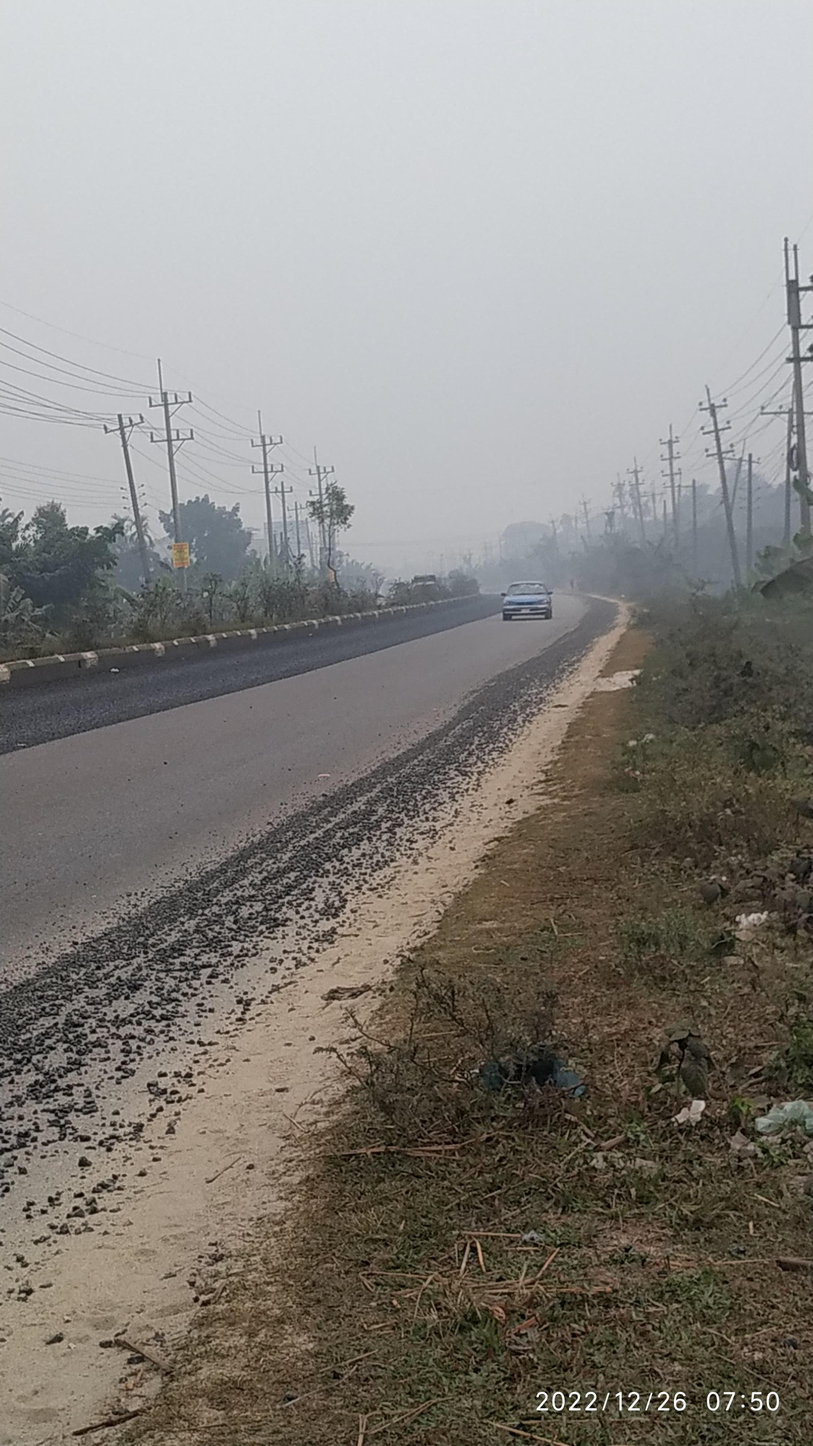Car: (497, 563, 569, 629)
